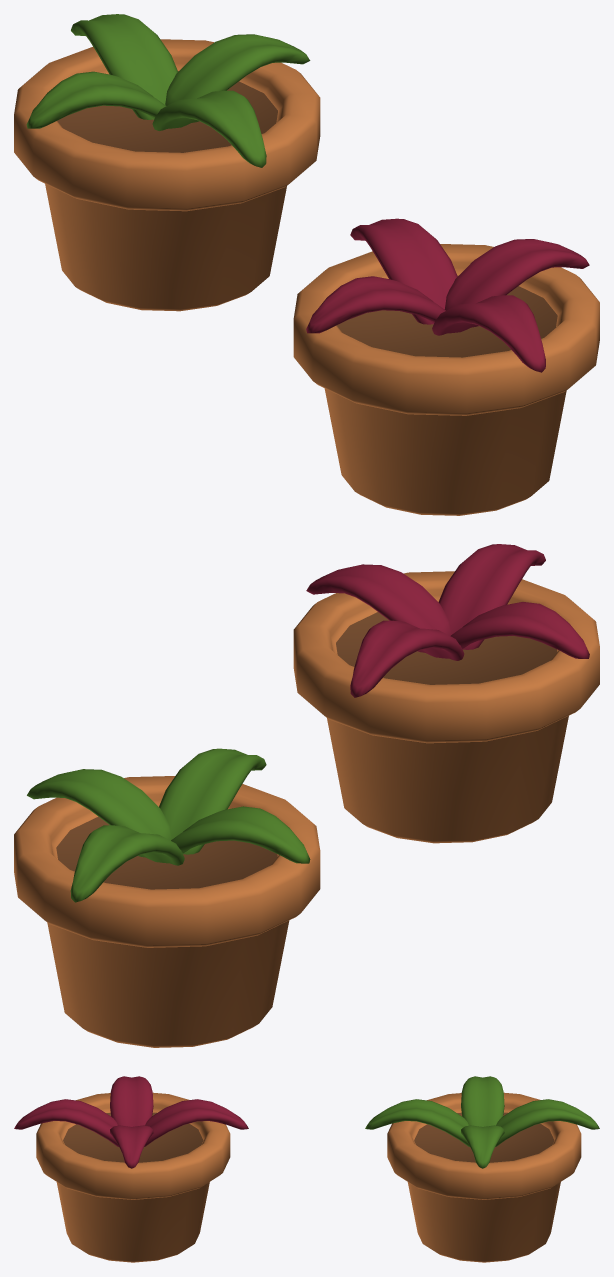
Rendered from deadplants.fbx.
3 views of the same model, one above another, from view 1: azimuth 30°, elevation 25°; view 2: azimuth 150°, elevation 25°; view 3: azimuth 270°, elevation 25° (orthographic). The views are drawn at different scales.
Visible parts, largest first — view 1: Plant2, Plant1; view 2: Plant1, Plant2; view 3: Plant1, Plant2.
Boxes of the visible parts, x1,y1,x2,y2 form: Plant2: (14, 14, 320, 311); Plant1: (293, 218, 599, 515); Plant1: (293, 544, 599, 843); Plant2: (14, 748, 320, 1047); Plant1: (14, 1076, 248, 1262); Plant2: (365, 1076, 599, 1262).
Bounding box in the file's own units: 582 × 413 × 1669.
Materials: 1 (1 with a texture image).
